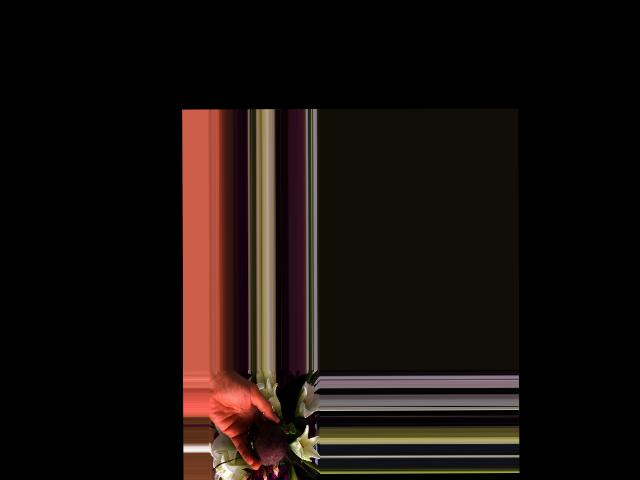beet: (247, 421, 317, 480)
